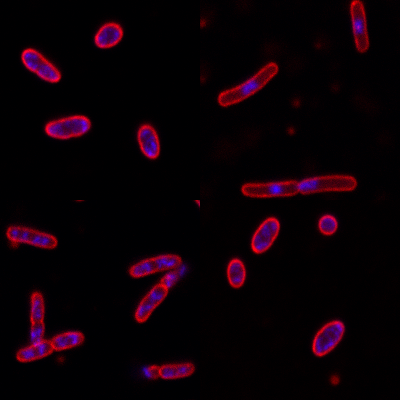Control: (15, 330, 85, 364), (127, 253, 182, 279), (6, 224, 59, 250)
MP265: (311, 319, 345, 357), (250, 217, 280, 255), (226, 258, 247, 289), (316, 214, 339, 236)
Mecillinam: (20, 46, 61, 84), (43, 113, 92, 140), (135, 123, 161, 159), (93, 21, 124, 50)
Nalidixate: (238, 173, 359, 200), (216, 61, 279, 109), (347, 0, 372, 55)
Oblique: (132, 266, 188, 323), (136, 359, 195, 381), (30, 291, 46, 345)
Vesicle: (326, 372, 342, 388), (284, 124, 297, 138), (289, 96, 303, 108)
